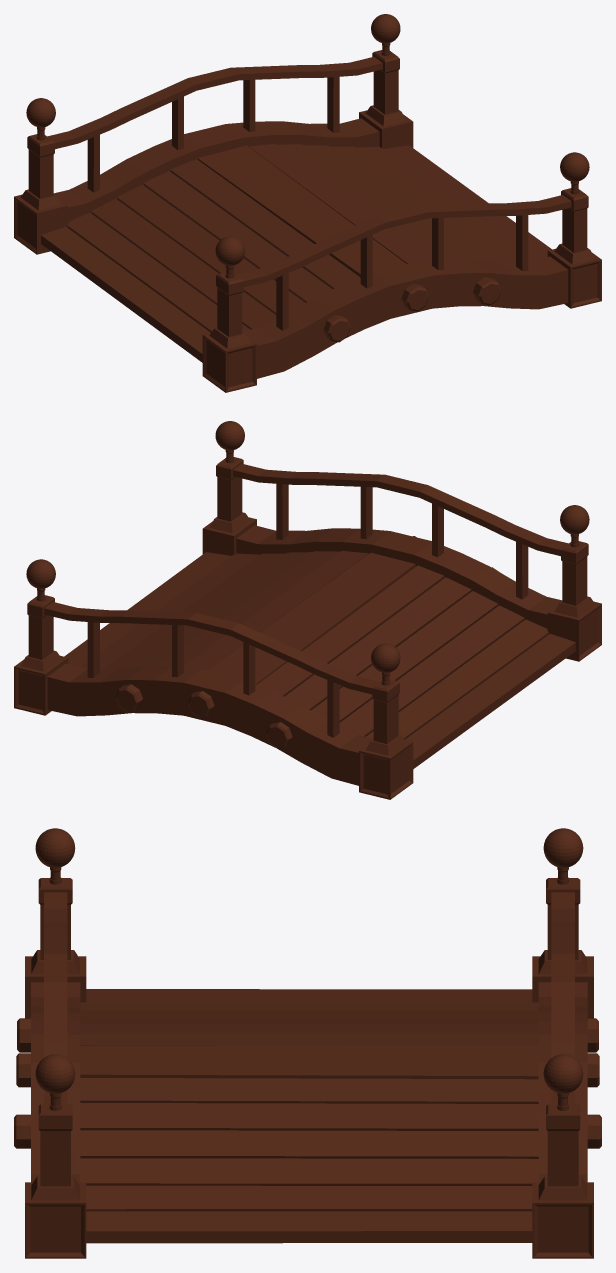
The model's file is bridge.glb.
3 views of the same model, one above another, from view 1: azimuth 30°, elevation 25°; view 2: azimuth 150°, elevation 25°; view 3: azimuth 270°, elevation 25° (orthographic). The views are drawn at different scales.
Visible parts, largest first — view 1: Bridge; view 2: Bridge; view 3: Bridge.
Part boxes in pixels (x1,y1,x2,y2): Bridge: (14, 14, 601, 392); Bridge: (14, 421, 601, 799); Bridge: (14, 828, 601, 1258).
Bounding box in the file's own units: 5.12 × 1.86 × 5.16.
